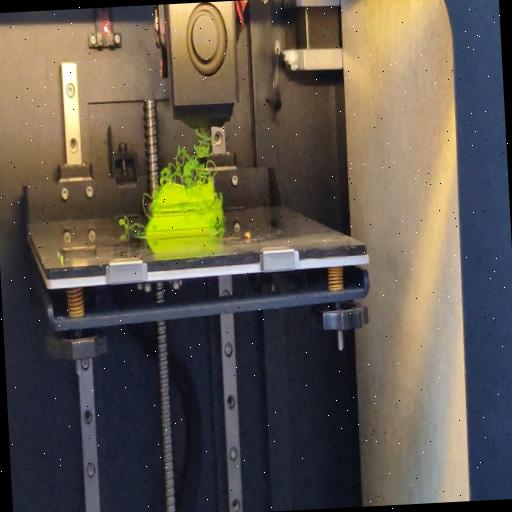spaghetti: (160, 129, 220, 187), (116, 212, 145, 231), (140, 187, 152, 215), (215, 224, 224, 234)
